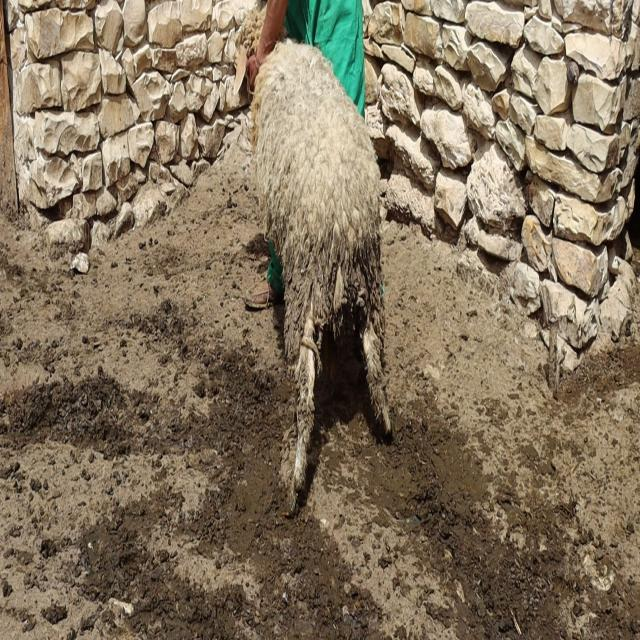Score_2: (250, 39, 392, 510)
